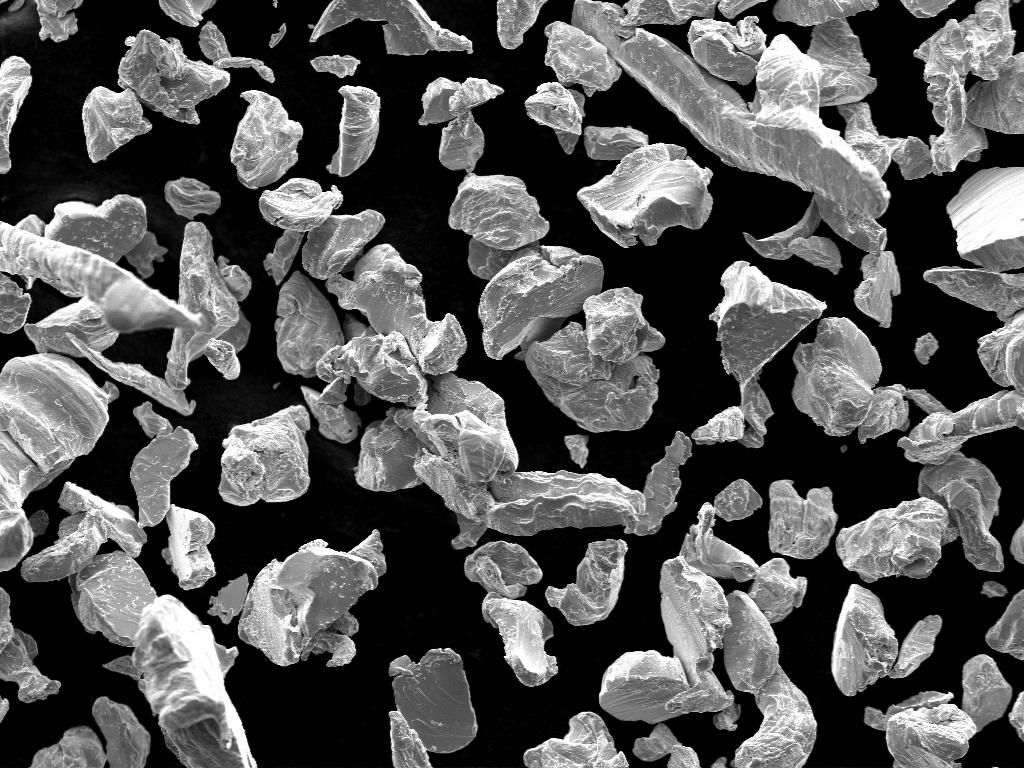Powder: (572, 0, 900, 326), (356, 374, 690, 548), (448, 174, 604, 358), (104, 594, 256, 766), (882, 0, 1024, 179), (0, 354, 118, 569), (692, 262, 826, 448), (600, 558, 740, 729), (0, 223, 206, 332), (240, 530, 386, 666), (526, 288, 664, 431), (326, 244, 466, 374), (864, 654, 1012, 768), (724, 590, 816, 768), (792, 318, 910, 441), (166, 222, 250, 390), (578, 144, 712, 246), (924, 268, 1024, 396), (22, 482, 146, 581), (388, 648, 478, 768), (836, 498, 960, 582), (118, 30, 230, 123), (66, 337, 196, 416), (918, 452, 1004, 571), (898, 390, 1024, 463), (310, 0, 472, 56), (220, 406, 310, 505), (68, 550, 156, 646), (316, 332, 428, 407), (130, 402, 198, 525), (946, 168, 1024, 271), (418, 78, 504, 171), (832, 584, 898, 696), (274, 272, 344, 377), (482, 592, 558, 686), (230, 90, 302, 189), (546, 540, 628, 626), (0, 588, 60, 702), (0, 588, 60, 702), (44, 194, 146, 261), (680, 502, 758, 581), (524, 712, 628, 768), (302, 210, 384, 279), (544, 22, 622, 94), (770, 480, 838, 560), (24, 298, 118, 355), (82, 86, 152, 162), (688, 16, 766, 83), (326, 86, 380, 175), (744, 200, 820, 260), (464, 542, 542, 600), (200, 22, 274, 82), (260, 178, 342, 231), (526, 82, 584, 154), (92, 696, 150, 767), (748, 558, 808, 623), (0, 56, 32, 173), (854, 252, 900, 328), (303, 386, 362, 443), (888, 616, 942, 678), (32, 726, 106, 768), (986, 590, 1024, 659), (774, 0, 878, 25), (622, 0, 718, 25), (498, 0, 545, 49), (164, 178, 220, 219), (584, 126, 648, 159), (264, 230, 303, 283), (788, 236, 842, 274), (208, 574, 248, 624), (714, 480, 762, 521), (0, 272, 32, 333), (126, 232, 168, 278), (632, 722, 680, 762), (37, 0, 82, 41), (158, 0, 216, 27), (204, 338, 240, 380), (310, 54, 360, 77), (342, 312, 376, 341), (900, 1, 954, 18), (718, 0, 766, 19), (914, 332, 938, 366), (564, 434, 588, 467), (1008, 692, 1024, 741), (668, 744, 700, 768), (16, 214, 46, 235), (1010, 522, 1024, 564), (352, 382, 372, 407), (982, 580, 1008, 598), (268, 24, 288, 47), (0, 696, 8, 722), (840, 444, 848, 454)
